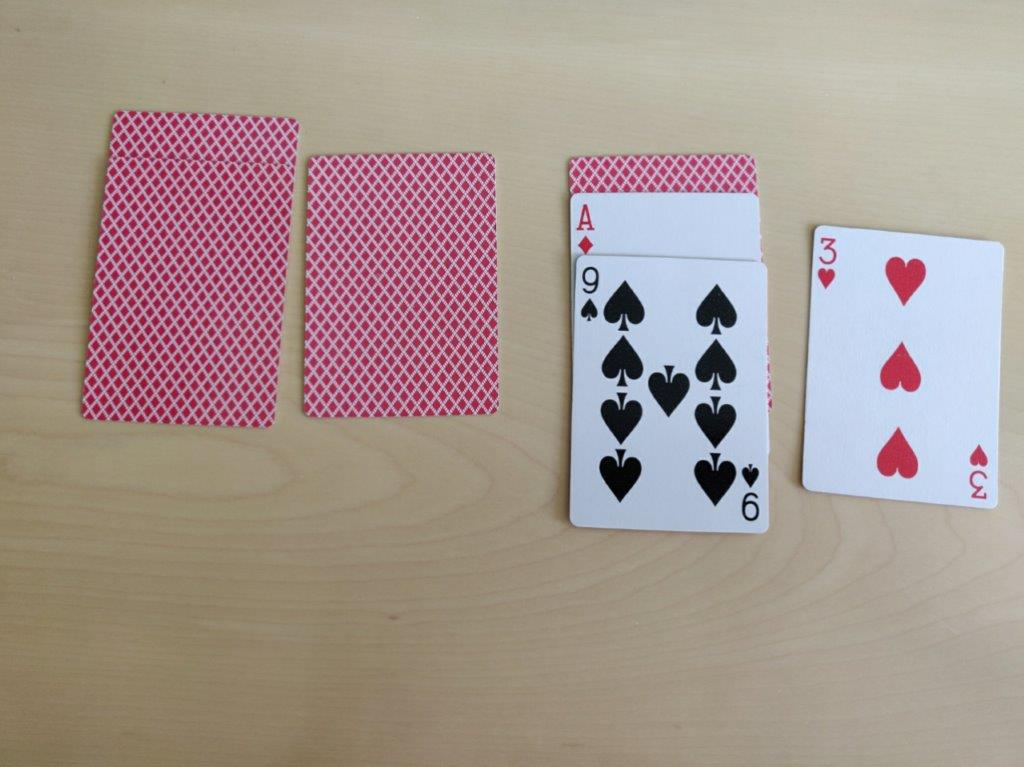3H: (814, 233, 840, 292)
9S: (578, 264, 602, 325)
AD: (575, 200, 597, 256)
BACK: (81, 158, 293, 430), (303, 153, 500, 421), (110, 109, 301, 161), (567, 152, 758, 194)
